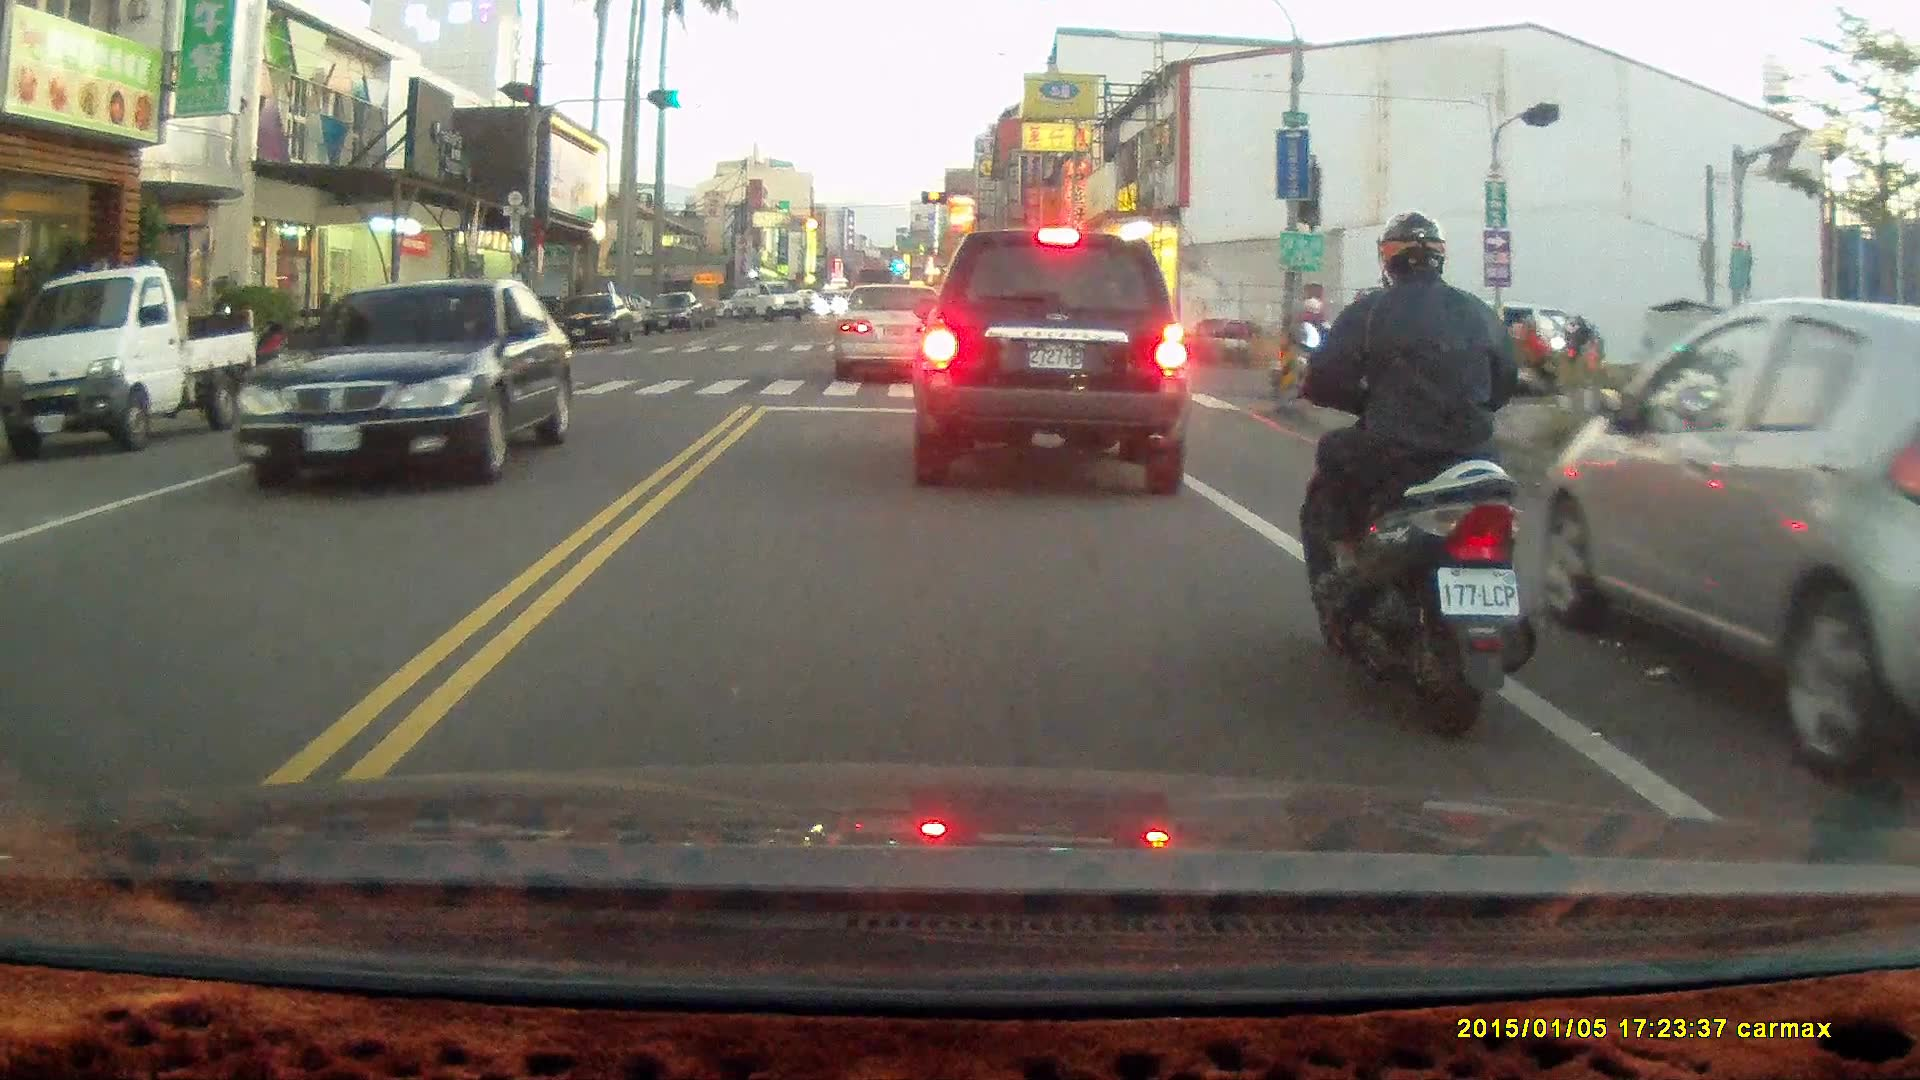rider: (1283, 212, 1541, 740), (1273, 298, 1358, 399), (1538, 312, 1608, 395)
vehicle: (1536, 297, 1920, 778), (910, 227, 1192, 498), (226, 277, 578, 492), (1, 268, 263, 458), (834, 283, 944, 380), (554, 293, 641, 351), (639, 292, 708, 337)
